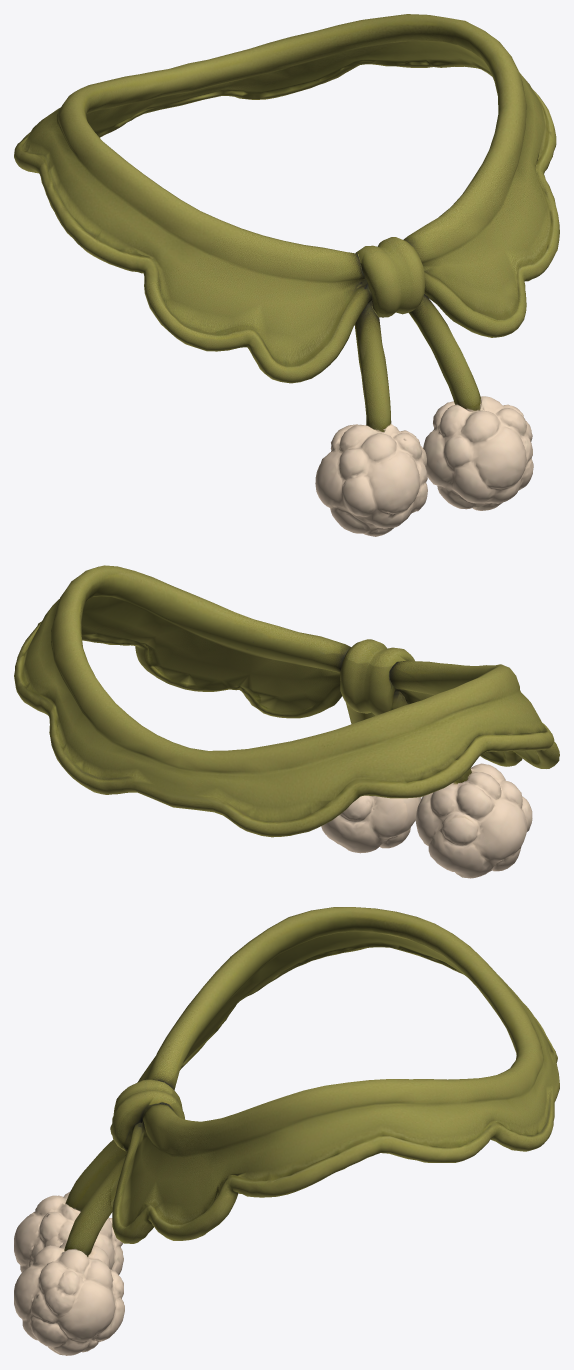
The model's file is mem_ac_scarf.fbx.
3 views of the same model, one above another, from view 1: azimuth 30°, elevation 25°; view 2: azimuth 150°, elevation 25°; view 3: azimuth 270°, elevation 25° (orthographic). The views are drawn at different scales.
Parts seen in each view (by area): view 1: tripo_node_cda77920; view 2: tripo_node_cda77920; view 3: tripo_node_cda77920.
Boxes of the visible parts, box(x1,y1,x2,y2) form: tripo_node_cda77920: box(14, 14, 559, 536); tripo_node_cda77920: box(14, 565, 559, 878); tripo_node_cda77920: box(14, 907, 559, 1355).
Bounding box in the file's own units: 0.998 × 0.6738 × 0.998.
